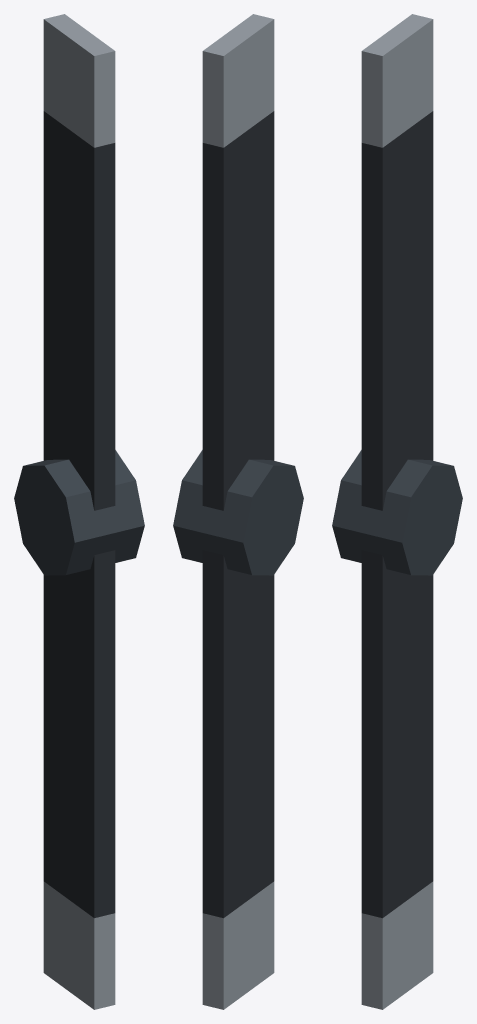
Rendered from veh_lantern_tail_rotor.fbx.
The picture shows the model from 3 angles, left to right: view 1: azimuth 30°, elevation 25°; view 2: azimuth 150°, elevation 25°; view 3: azimuth 330°, elevation 25°; orthographic projection.
Parts seen in each view (by area): view 1: veh_lantern_tail_rotor; view 2: veh_lantern_tail_rotor; view 3: veh_lantern_tail_rotor.
Part boxes in pixels (bbox=[...]): veh_lantern_tail_rotor: bbox=[14, 14, 144, 1009]; veh_lantern_tail_rotor: bbox=[173, 14, 303, 1009]; veh_lantern_tail_rotor: bbox=[332, 14, 462, 1009].
Bounding box in the file's own units: 40 × 520 × 60.
